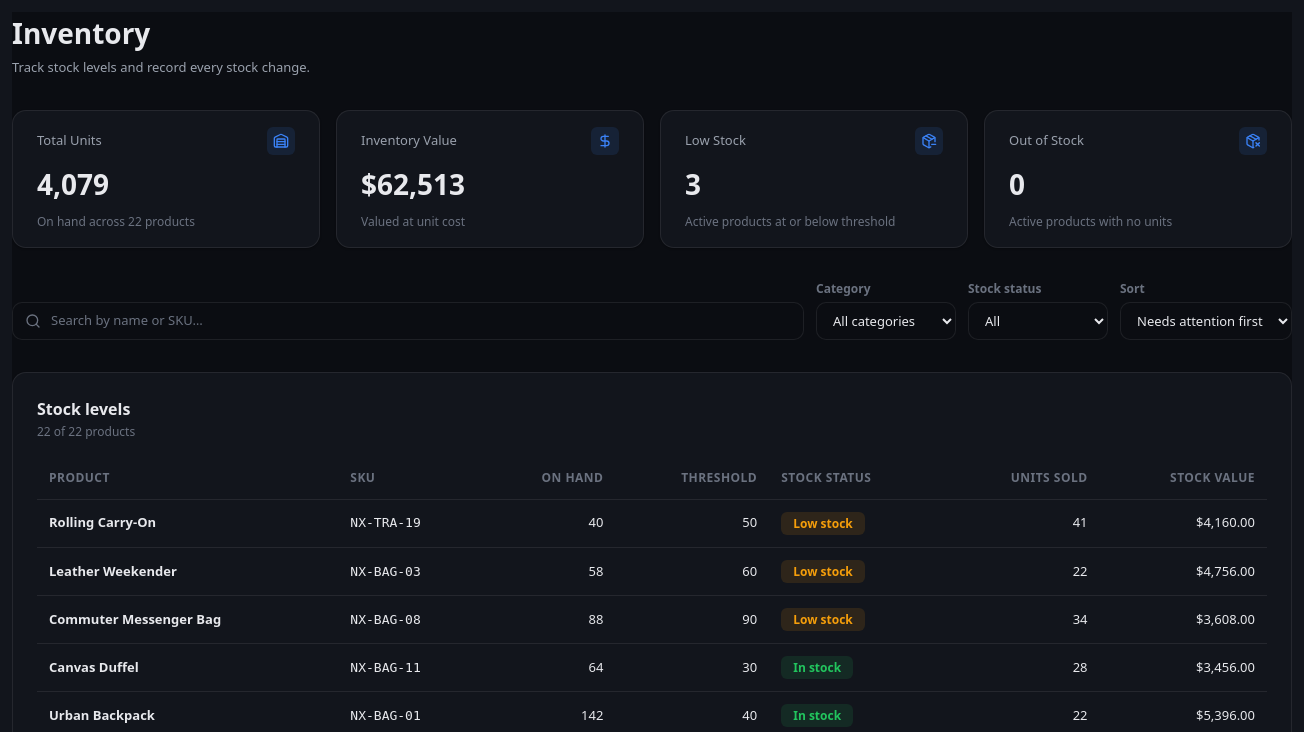
it: Inventory page: search, filters and sorting › filters by category
This screenshot has width=1304, height=732.
Select "Tech" in the dropdown labelled "Category" at coordinates (886, 320), box [816,302,956,340]
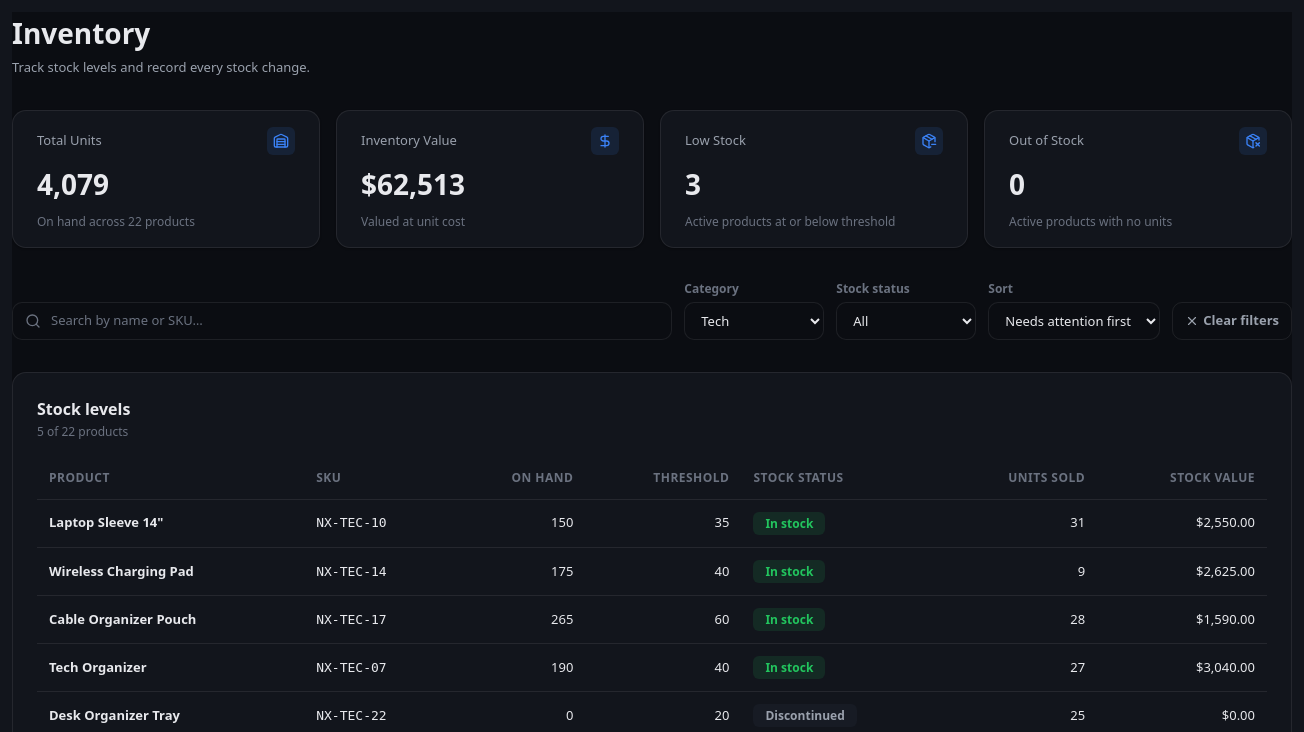
Expected: the number of buttons named "Manage stock for " is 5, [49,513,163,533]; [49,562,194,581]; [49,610,196,629]; [49,658,146,677]; [49,706,180,726]
